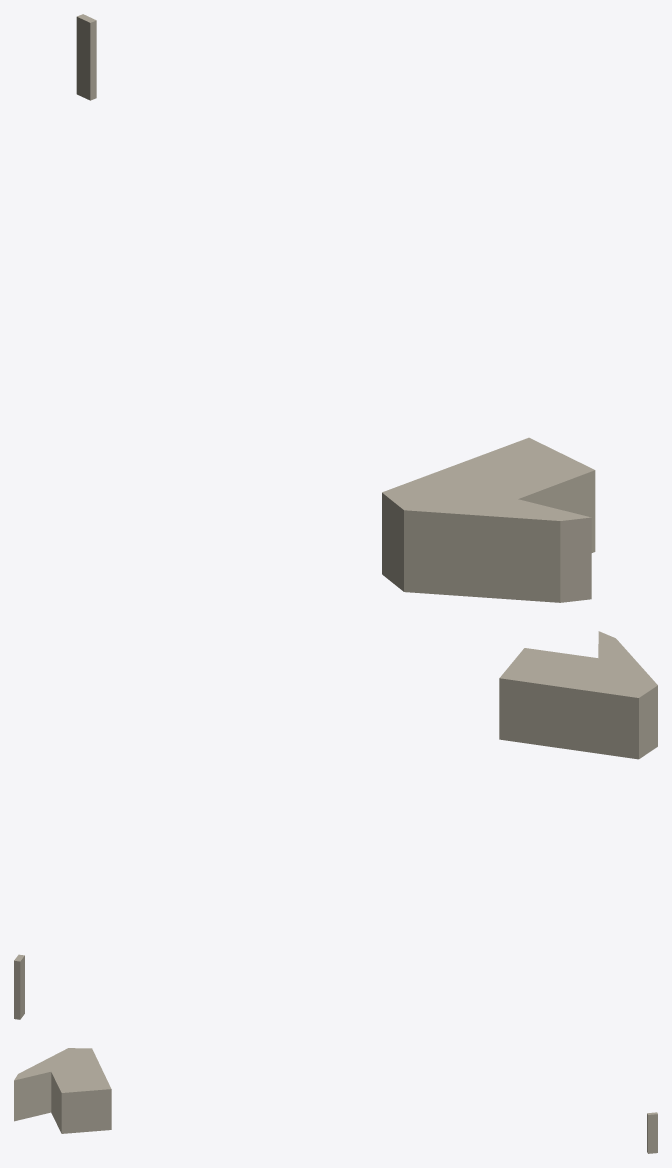
File: bormla_60_32_collision.glb
The picture shows the model from 3 angles, top to bottom: view 1: azimuth 30°, elevation 25°; view 2: azimuth 150°, elevation 25°; view 3: azimuth 270°, elevation 25°; orthographic projection. The views are drawn at different scales.
Visible parts, largest first — view 1: geometry_0; view 2: geometry_0; view 3: geometry_0.
Part boxes in pixels (box(x1,y1,x2,y2)): geometry_0: box(76, 14, 595, 602); geometry_0: box(14, 631, 657, 1019); geometry_0: box(14, 1048, 657, 1153).
Bounding box in the file's own units: 37.61 × 10.79 × 154.
